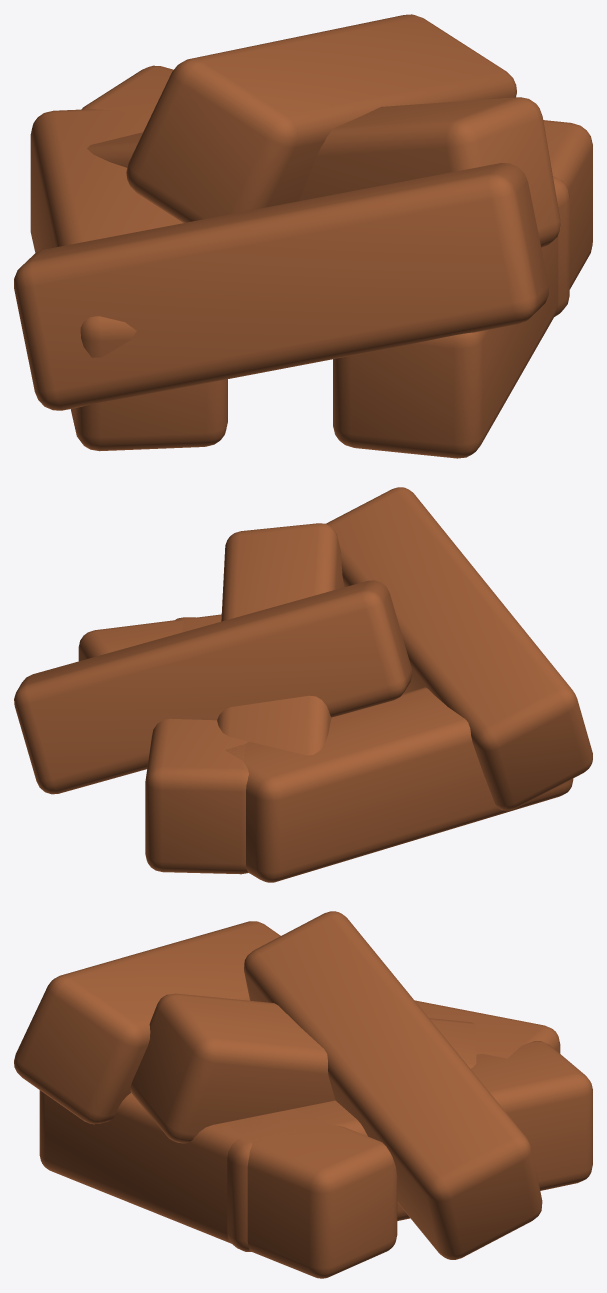
Rendered from Campfire.fbx.
3 renders of one model, top to bottom at view 1: azimuth 30°, elevation 25°; view 2: azimuth 150°, elevation 25°; view 3: azimuth 270°, elevation 25°, orthographic. The views are drawn at different scales.
Visible parts, largest first — view 1: Cube.005; view 2: Cube.005; view 3: Cube.005.
Boxes of the visible parts, x1,y1,x2,y2 form: Cube.005: (14,14,592,458); Cube.005: (14,487,592,882); Cube.005: (14,911,592,1278).
Size of the model in its own units: 930 by 431 by 969.
